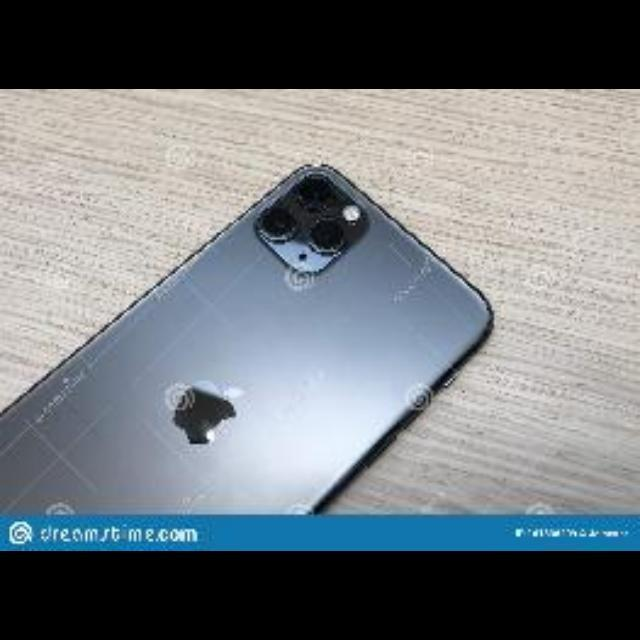Phone: (2, 166, 494, 514)
